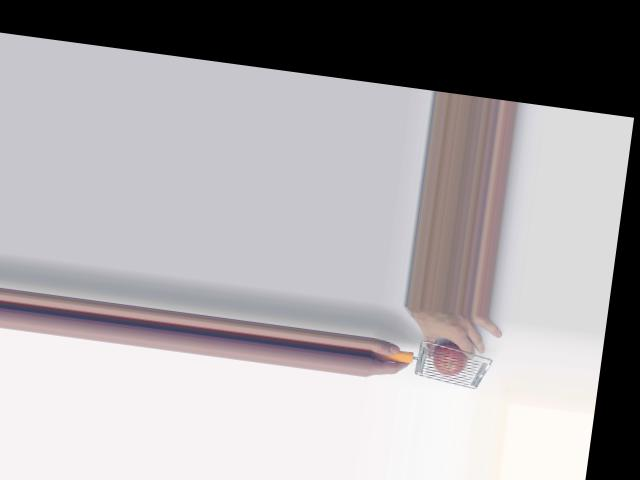tomato: (429, 340, 468, 377)
